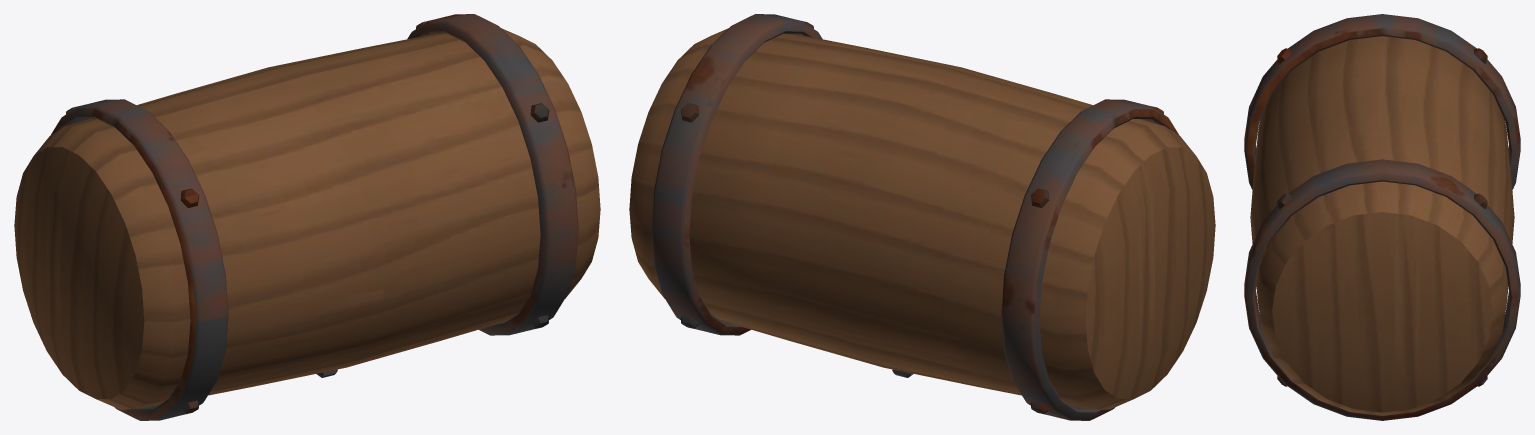
Rendered from Head_Mallet.glb.
3 renders of one model, left to right at view 1: azimuth 30°, elevation 25°; view 2: azimuth 150°, elevation 25°; view 3: azimuth 270°, elevation 25°, orthographic. The views are drawn at different scales.
Parts seen in each view (by area): view 1: Head_Mallet; view 2: Head_Mallet; view 3: Head_Mallet.
Boxes of the visible parts, box(x1,y1,x2,y2) form: Head_Mallet: box(14, 14, 600, 420); Head_Mallet: box(629, 14, 1215, 420); Head_Mallet: box(1244, 14, 1520, 420).
Size of the model in its own units: 0.308 by 0.18 by 0.18.
Materials: 4 (4 with a texture image).
